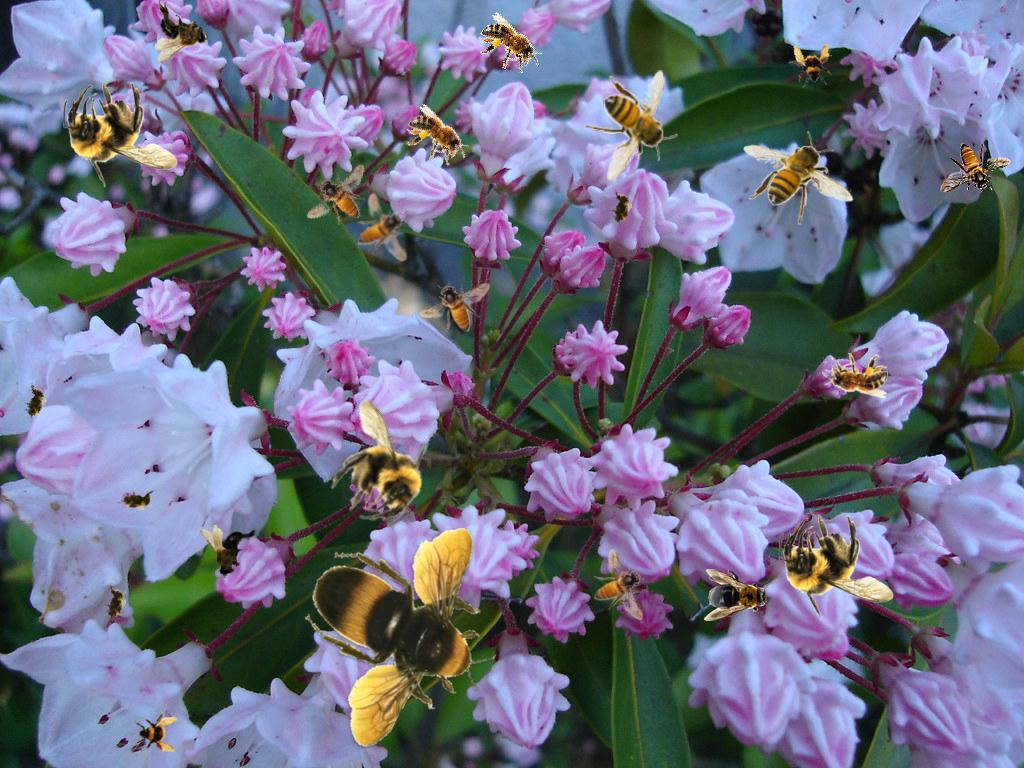Bee: (305, 528, 496, 748), (300, 384, 457, 541), (63, 81, 178, 188), (779, 514, 894, 621), (584, 70, 678, 181), (743, 131, 854, 225), (296, 162, 380, 235), (398, 102, 478, 175), (471, 10, 551, 83), (353, 190, 409, 265), (594, 549, 644, 620), (940, 143, 1011, 193), (419, 282, 490, 332), (704, 569, 772, 621), (200, 525, 262, 578), (155, 0, 208, 62), (822, 353, 888, 398), (786, 40, 836, 90), (134, 710, 178, 754), (17, 380, 53, 426), (98, 581, 132, 627), (605, 187, 637, 231), (117, 489, 157, 511)
